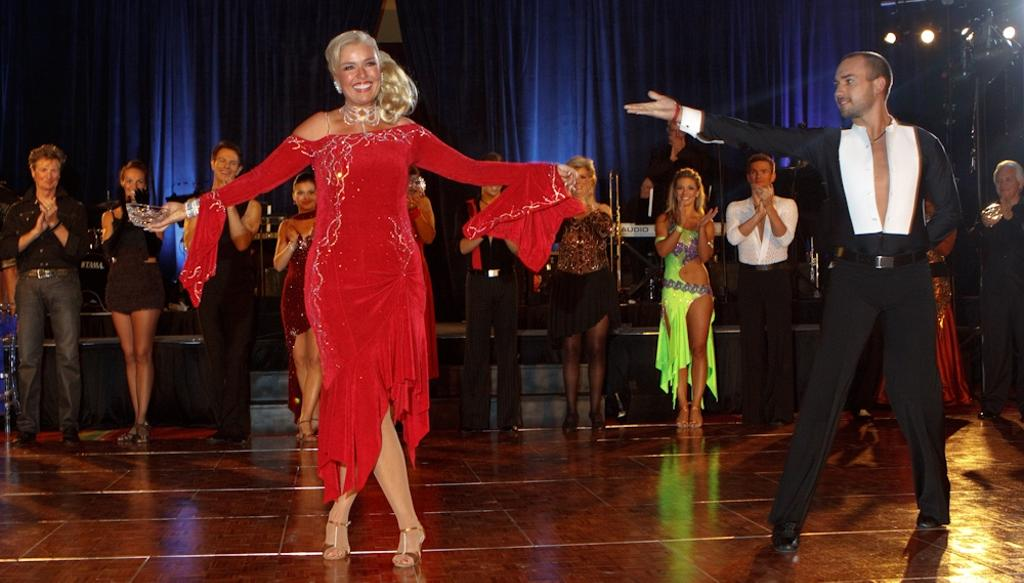face: (339, 43, 382, 103), (834, 61, 872, 117), (214, 149, 238, 179), (994, 166, 1017, 197), (34, 160, 58, 188), (749, 161, 771, 188), (567, 167, 589, 194), (295, 182, 316, 209), (675, 177, 696, 204), (124, 171, 144, 197), (484, 168, 503, 195), (405, 174, 419, 198), (670, 120, 685, 140)
